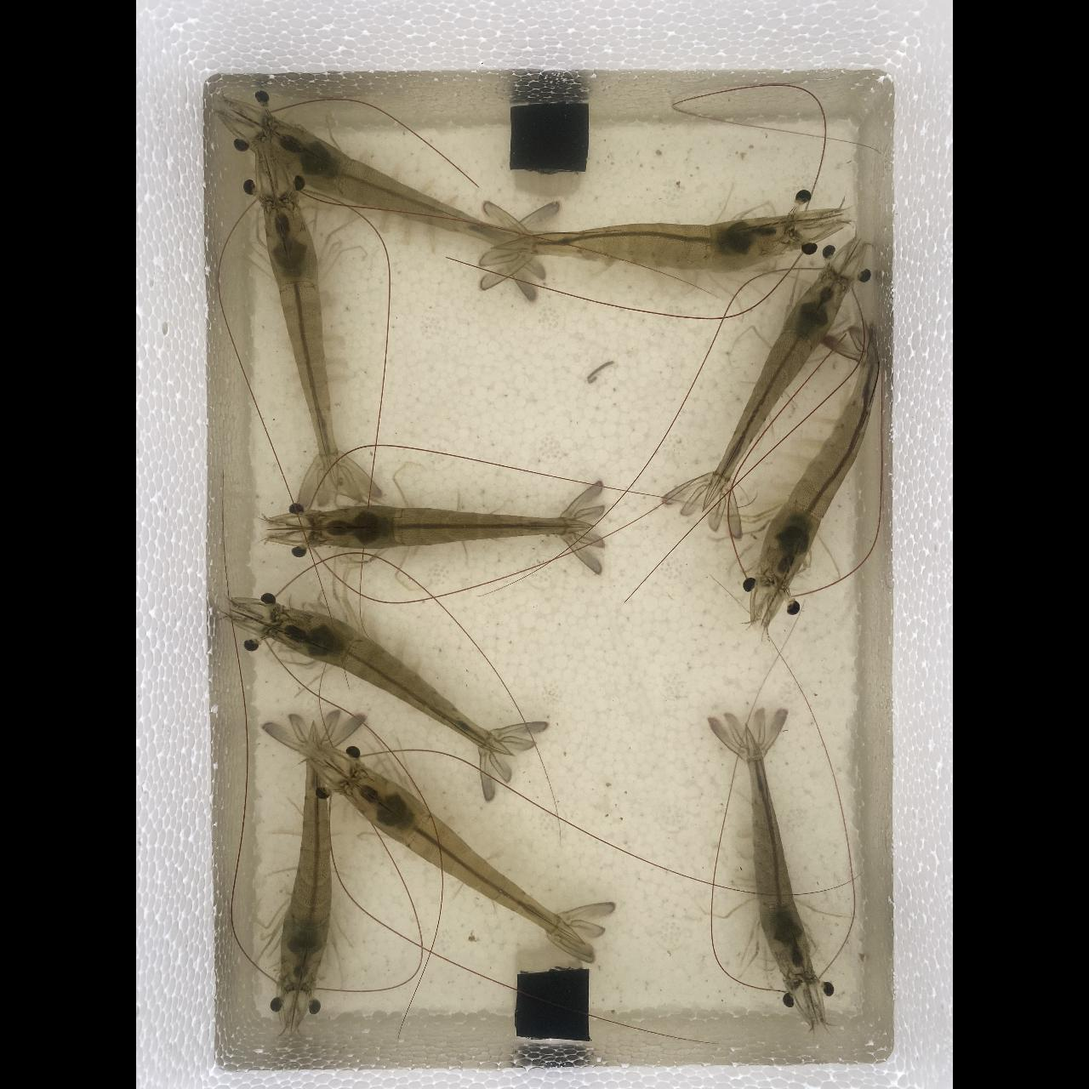box: (510, 102, 589, 172), (516, 966, 590, 1040)
top_shrimp: (342, 767, 577, 938), (700, 272, 847, 513), (271, 609, 507, 754), (262, 123, 529, 248), (759, 342, 876, 582), (265, 196, 337, 476), (494, 220, 788, 276), (747, 730, 812, 978), (281, 730, 332, 989), (306, 504, 589, 548)
